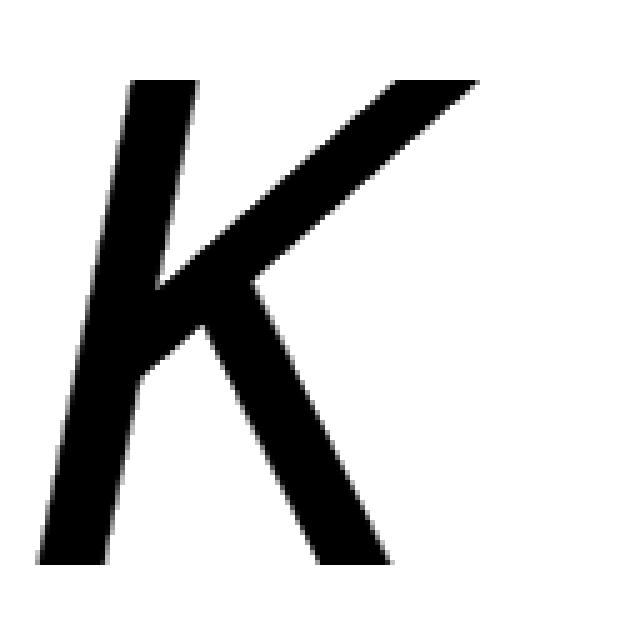K: (30, 65, 480, 570)
